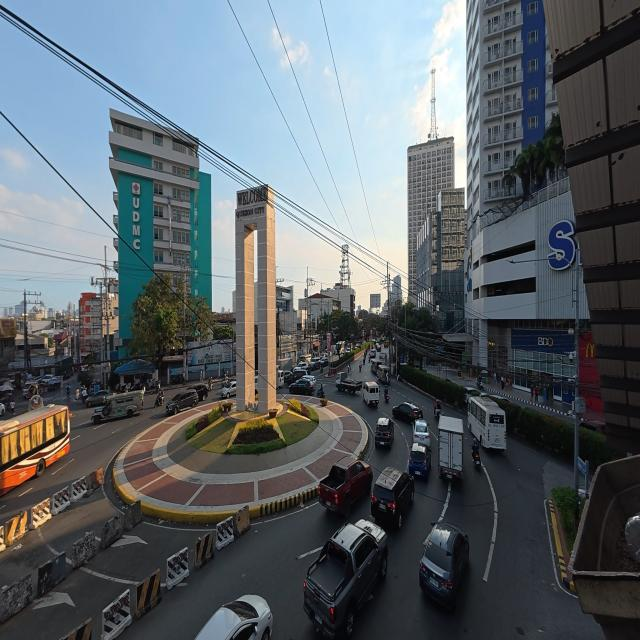bus: (467, 396, 509, 454)
car: (375, 416, 395, 448), (395, 402, 423, 424)
trucks: (303, 518, 391, 639)
vans: (362, 379, 381, 406)
